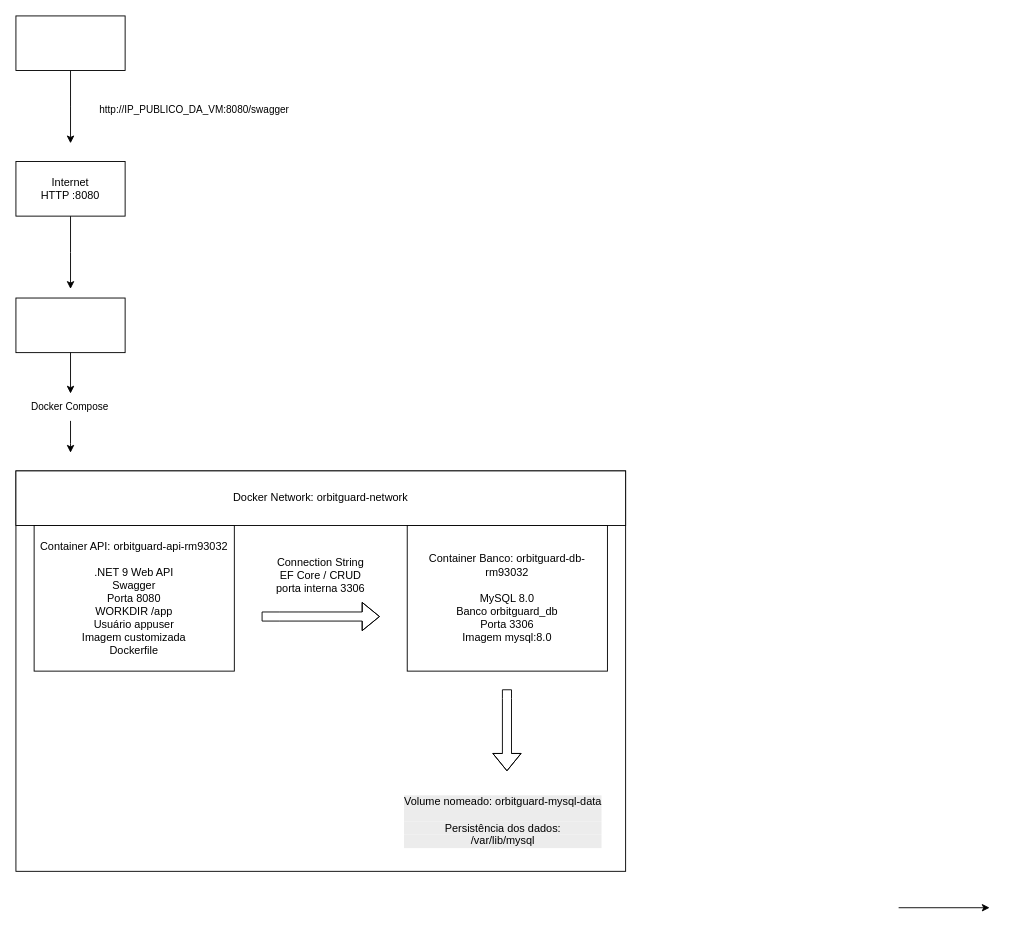
This 1013x931 diagram has some shape labels left out. Here are the shapes that lost their labels. From the top down, the box of each, then its label:
(15, 15, 125, 71): Usuário / Professor
(15, 297, 125, 353): Azure VM Ubuntu IP Público
